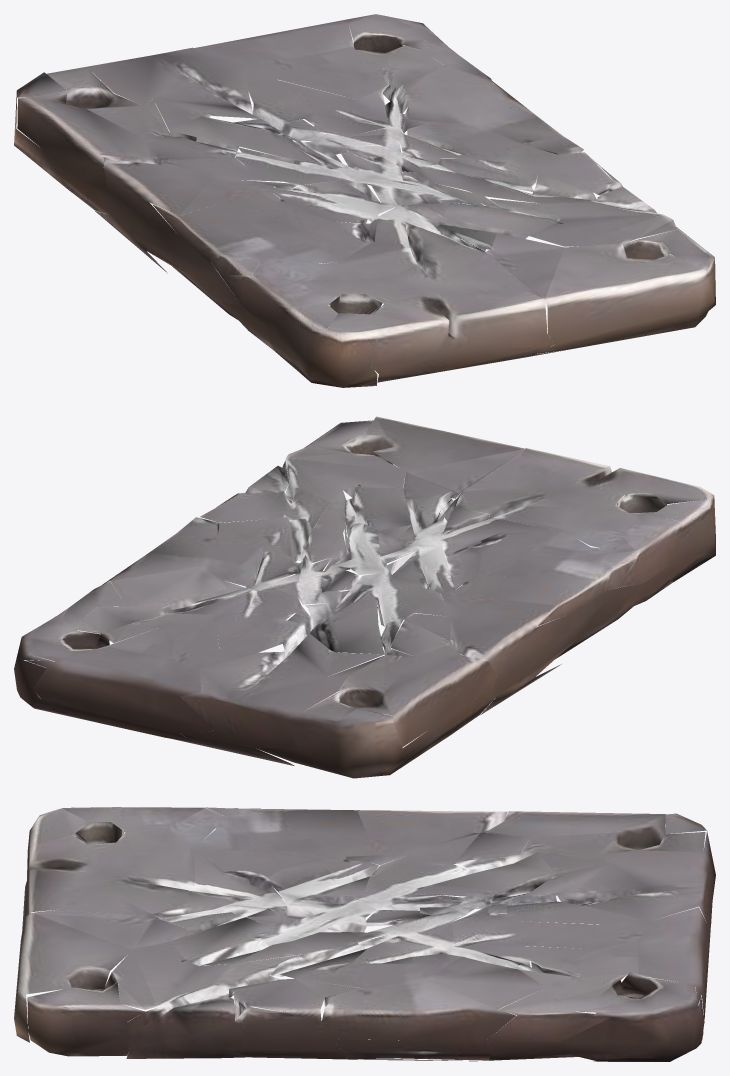
Rendered from scratch.glb.
3 renders of one model, top to bottom at view 1: azimuth 30°, elevation 25°; view 2: azimuth 150°, elevation 25°; view 3: azimuth 270°, elevation 25°, orthographic. The views are drawn at different scales.
Visible parts, largest first — view 1: item; view 2: item; view 3: item.
Boxes of the visible parts, x1,y1,x2,y2 form: item: (14, 14, 715, 387); item: (14, 416, 715, 778); item: (14, 807, 715, 1061).
Size of the model in its own units: 0.0668 by 0.0112 by 0.0998.
1 material, 1 textured.
